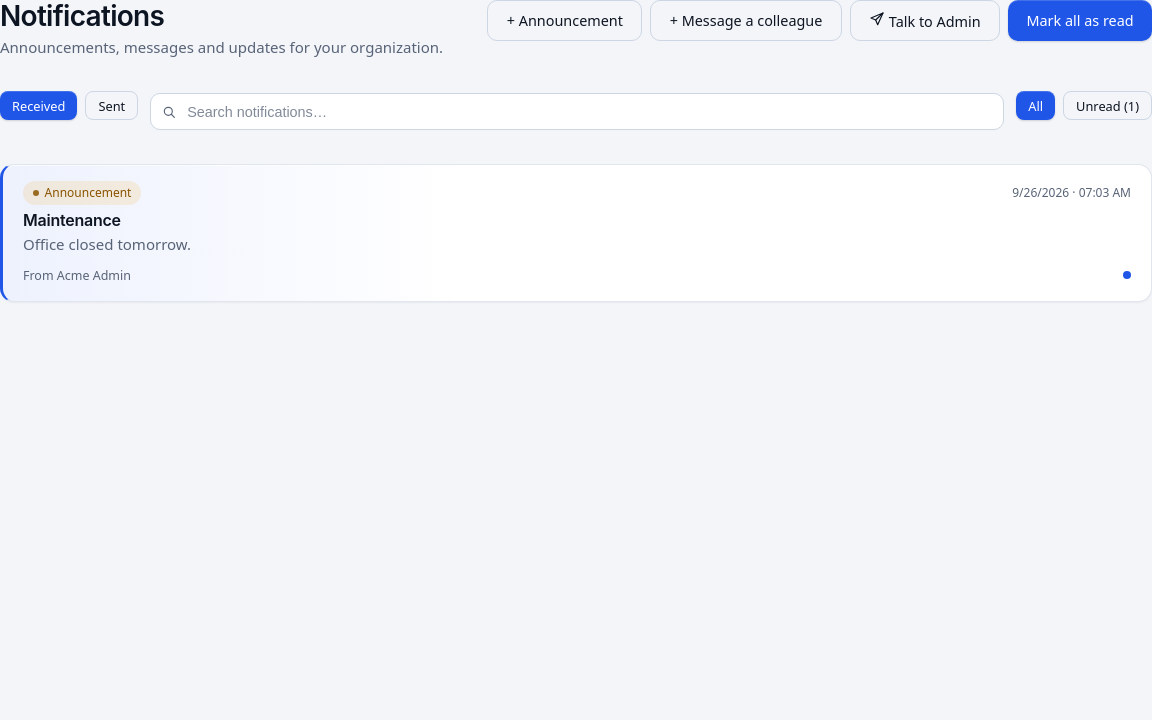
Test: NotificationsPage › marks a notification as read when its card is opened
Click the heading "Maintenance".
click(72, 220)  # box [23, 210, 121, 230]
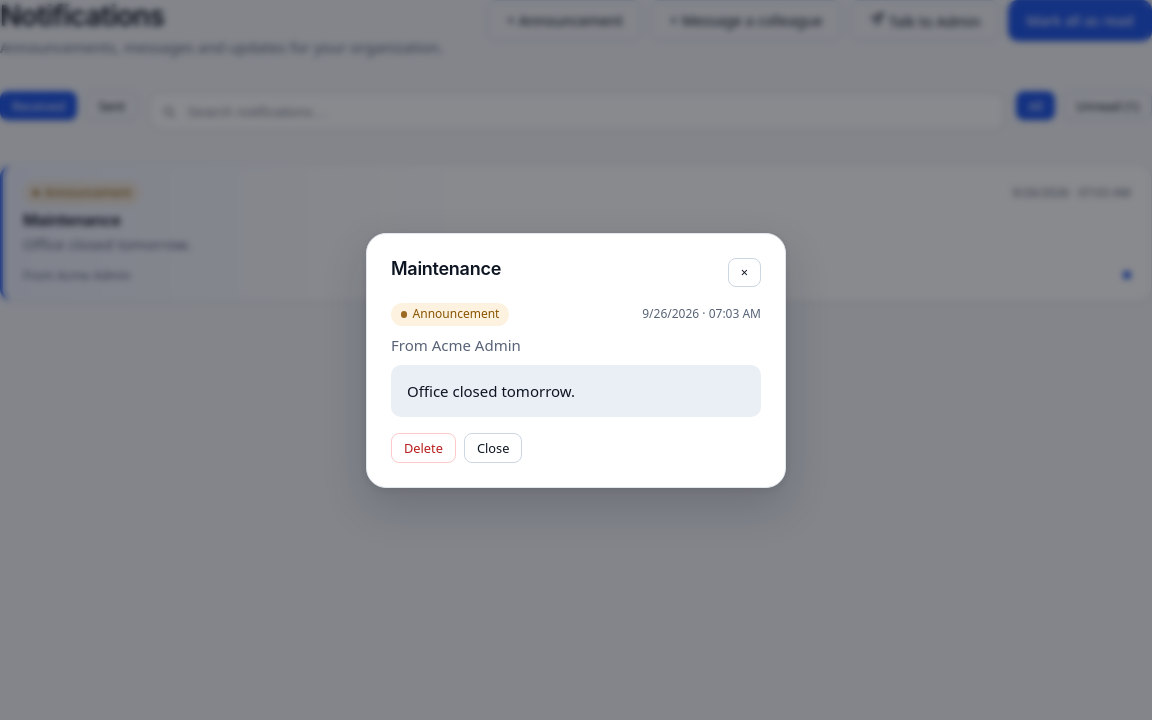
expect the dialog "Maintenance" is shown: met, box [366, 232, 786, 488]
